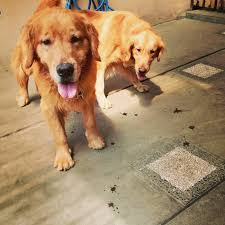Bulldog: (7, 5, 113, 174), (102, 7, 171, 96)
